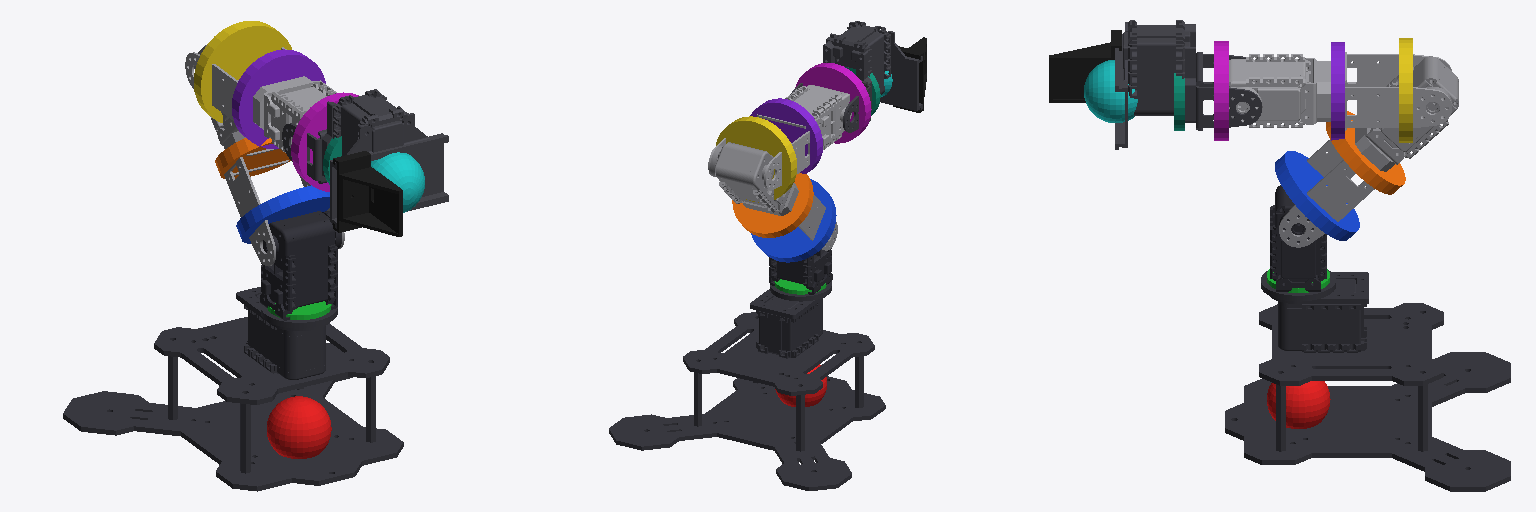
URDF robot description (phantomx_pincher_cad):
<?xml version="1.0" ?>
<!-- 由 scripts/build_cad_urdf.py 从 PhantomX Pincher Mark II STEP/GLB 生成。
     运动学来自 CAD 装配：link frame = 零件局部坐标系，joint origin = 父→子相对变换。
     base_link 包含底座；base_footprint 把 CAD 的 Y-up 转成 Z-up。
-->
<robot name="phantomx_pincher_cad">
  <link name="base_footprint"/>
  <joint name="arm_base_joint" type="fixed">
    <origin xyz="0 0 0" rpy="0 -0 -1.57079633"/>
    <parent link="base_footprint"/>
    <child link="base_link"/>
  </joint>

  <link name="base_link">
    <inertial>
      <mass value="0.3"/>
      <origin xyz="0 0 0"/>
      <inertia ixx="0.0001" ixy="0" ixz="0" iyy="0.0001" iyz="0" izz="0.0001"/>
    </inertial>
    <visual>
      <origin xyz="0 0 0" rpy="0 0 0"/>
      <geometry><mesh filename="parts/PincherBase.stl" scale="1.0 1.0 1.0"/></geometry>
      <material name="grey"><color rgba="0.25 0.25 0.28 1"/></material>
    </visual>
    <collision>
      <origin xyz="0 0 0" rpy="0 0 0"/>
      <geometry><mesh filename="parts/PincherBase.stl" scale="1.0 1.0 1.0"/></geometry>
    </collision>
    <visual>
      <origin xyz="0 0 0" rpy="0 0 0"/>
      <geometry><mesh filename="parts/PincherBase_1.stl" scale="1.0 1.0 1.0"/></geometry>
      <material name="grey"><color rgba="0.25 0.25 0.28 1"/></material>
    </visual>
    <collision>
      <origin xyz="0 0 0" rpy="0 0 0"/>
      <geometry><mesh filename="parts/PincherBase_1.stl" scale="1.0 1.0 1.0"/></geometry>
    </collision>
  </link>

  <joint name="arm_shoulder_pan_joint" type="revolute">
    <origin xyz="0.00007574 0.00007574 0.09437501" rpy="0 0 0"/>
    <axis xyz="0 0 1"/>
    <limit effort="6" lower="-1.74" upper="1.74" velocity="1.571"/>
    <dynamics friction="0.13"/>
    <parent link="base_link"/>
    <child link="arm_shoulder_pan_link"/>
  </joint>
  <link name="arm_shoulder_pan_link">
    <inertial>
      <mass value="0.08"/>
      <origin xyz="0 0 0"/>
      <inertia ixx="0.0001" ixy="0" ixz="0" iyy="0.0001" iyz="0" izz="0.0001"/>
    </inertial>
    <visual>
      <origin xyz="0 0 0" rpy="0 0 0"/>
      <geometry><mesh filename="parts/Component1.stl" scale="1.0 1.0 1.0"/></geometry>
      <material name="grey"><color rgba="0.22 0.22 0.25 1"/></material>
    </visual>
    <collision>
      <origin xyz="0 0 0" rpy="0 0 0"/>
      <geometry><mesh filename="parts/Component1.stl" scale="1.0 1.0 1.0"/></geometry>
    </collision>
  </link>

  <joint name="arm_bicep_joint" type="revolute">
    <origin xyz="-0.00000023 0 0.04149977" rpy="0 -0.78539816 0"/>
    <axis xyz="0 1 -0"/>
    <limit effort="6" lower="-1.98" upper="1.88" velocity="1.571"/>
    <dynamics friction="0.13"/>
    <parent link="arm_shoulder_pan_link"/>
    <child link="arm_bicep_link"/>
  </joint>
  <link name="arm_bicep_link">
    <inertial>
      <mass value="0.1"/>
      <origin xyz="0 0 0"/>
      <inertia ixx="0.0001" ixy="0" ixz="0" iyy="0.0001" iyz="0" izz="0.0001"/>
    </inertial>
    <visual>
      <origin xyz="0 0 0" rpy="0 0 0"/>
      <geometry><mesh filename="parts/LowerArm_v2.stl" scale="1.0 1.0 1.0"/></geometry>
      <material name="grey"><color rgba="0.6 0.6 0.62 1"/></material>
    </visual>
    <collision>
      <origin xyz="0 0 0" rpy="0 0 0"/>
      <geometry><mesh filename="parts/LowerArm_v2.stl" scale="1.0 1.0 1.0"/></geometry>
    </collision>
  </link>

  <joint name="arm_forearm_joint" type="revolute">
    <origin xyz="0.00000023 0 0.10700023" rpy="-3.14159265 0.78539816 -3.14159265"/>
    <axis xyz="-0 1 0"/>
    <limit effort="6" lower="-1.58" upper="0.59" velocity="1.571"/>
    <dynamics friction="0.13"/>
    <parent link="arm_bicep_link"/>
    <child link="arm_forearm_link"/>
  </joint>
  <link name="arm_forearm_link">
    <inertial>
      <mass value="0.08"/>
      <origin xyz="0 0 0"/>
      <inertia ixx="0.0001" ixy="0" ixz="0" iyy="0.0001" iyz="0" izz="0.0001"/>
    </inertial>
    <visual>
      <origin xyz="0 0 0" rpy="0 0 0"/>
      <geometry><mesh filename="parts/UpperArm_v2.stl" scale="1.0 1.0 1.0"/></geometry>
      <material name="grey"><color rgba="0.68 0.68 0.7 1"/></material>
    </visual>
    <collision>
      <origin xyz="0 0 0" rpy="0 0 0"/>
      <geometry><mesh filename="parts/UpperArm_v2.stl" scale="1.0 1.0 1.0"/></geometry>
    </collision>
  </link>

  <joint name="arm_wrist_flex_joint" type="revolute">
    <origin xyz="-0.00025427 -0 0.107" rpy="-0 0 0"/>
    <axis xyz="-0 1 0"/>
    <limit effort="6" lower="-1.79" upper="1.67" velocity="1.571"/>
    <dynamics friction="0.13"/>
    <parent link="arm_forearm_link"/>
    <child link="arm_wrist_flex_link"/>
  </joint>
  <link name="arm_wrist_flex_link">
    <inertial>
      <mass value="0.06"/>
      <origin xyz="0 0 0"/>
      <inertia ixx="0.0001" ixy="0" ixz="0" iyy="0.0001" iyz="0" izz="0.0001"/>
    </inertial>
    <visual>
      <origin xyz="0 0 0" rpy="0 0 0"/>
      <geometry><mesh filename="parts/GripperBody_v4.stl" scale="1.0 1.0 1.0"/></geometry>
      <material name="grey"><color rgba="0.3 0.3 0.33 1"/></material>
    </visual>
    <collision>
      <origin xyz="0 0 0" rpy="0 0 0"/>
      <geometry><mesh filename="parts/GripperBody_v4.stl" scale="1.0 1.0 1.0"/></geometry>
    </collision>
  </link>

  <joint name="gripper_joint" type="prismatic">
    <origin xyz="0.00036977 0.02834429 0.07158491" rpy="-0 0 3.14159265"/>
    <axis xyz="0 -1 -0"/>
    <limit effort="30" lower="0.002" upper="0.032" velocity="0.5"/>
    <parent link="arm_wrist_flex_link"/>
    <child link="gripper_active_link"/>
  </joint>
  <link name="gripper_active_link">
    <inertial>
      <mass value="0.01"/>
      <origin xyz="0 0 0"/>
      <inertia ixx="0.0001" ixy="0" ixz="0" iyy="0.0001" iyz="0" izz="0.0001"/>
    </inertial>
    <visual>
      <origin xyz="0 0 0" rpy="0 0 0"/>
      <geometry><mesh filename="parts/LeftFinger_v2.stl" scale="1.0 1.0 1.0"/></geometry>
      <material name="grey"><color rgba="0.15 0.15 0.15 1"/></material>
    </visual>
    <collision>
      <origin xyz="0 0 0" rpy="0 0 0"/>
      <geometry><mesh filename="parts/LeftFinger_v2.stl" scale="1.0 1.0 1.0"/></geometry>
    </collision>
  </link>

  <joint name="gripper2_joint" type="fixed">
    <origin xyz="0.00036977 -0.02849576 0.07158491" rpy="0 -0 0"/>
    <parent link="arm_wrist_flex_link"/>
    <child link="gripper_active2_link"/>
  </joint>
  <link name="gripper_active2_link">
    <inertial>
      <mass value="0.01"/>
      <origin xyz="0 0 0"/>
      <inertia ixx="0.0001" ixy="0" ixz="0" iyy="0.0001" iyz="0" izz="0.0001"/>
    </inertial>
    <visual>
      <origin xyz="0 0 0" rpy="0 0 0"/>
      <geometry><mesh filename="parts/LeftFinger_v2_1.stl" scale="1.0 1.0 1.0"/></geometry>
      <material name="grey"><color rgba="0.15 0.15 0.15 1"/></material>
    </visual>
    <collision>
      <origin xyz="0 0 0" rpy="0 0 0"/>
      <geometry><mesh filename="parts/LeftFinger_v2_1.stl" scale="1.0 1.0 1.0"/></geometry>
    </collision>
  </link>

  <link name="kp_base">
    <visual>
      <origin xyz="0 0 0" rpy="0 0 0"/>
      <geometry><sphere radius="0.018"/></geometry>
      <material name="kp_base_mat"><color rgba="0.90 0.15 0.15 1.0"/></material>
    </visual>
  </link>
  <joint name="kp_base_joint" type="fixed">
    <origin xyz="0 0 0.02" rpy="0 0 0"/>
    <parent link="base_link"/>
    <child link="kp_base"/>
  </joint>

  <link name="kp_shoulder_pan">
    <visual>
      <origin xyz="0 0 0" rpy="0 0 0"/>
      <geometry><cylinder radius="0.018" length="0.006"/></geometry>
      <material name="kp_shoulder_pan_mat"><color rgba="0.15 0.75 0.25 1.0"/></material>
    </visual>
  </link>
  <joint name="kp_shoulder_pan_joint" type="fixed">
    <origin xyz="0 0 0" rpy="0 0 0"/>
    <parent link="arm_shoulder_pan_link"/>
    <child link="kp_shoulder_pan"/>
  </joint>

  <link name="kp_shoulder_lift">
    <visual>
      <origin xyz="0 0 0" rpy="0 0 0"/>
      <geometry><cylinder radius="0.03" length="0.008"/></geometry>
      <material name="kp_shoulder_lift_mat"><color rgba="0.15 0.35 0.90 1.0"/></material>
    </visual>
  </link>
  <joint name="kp_shoulder_lift_joint" type="fixed">
    <origin xyz="0 0 0.015" rpy="0 0 0"/>
    <parent link="arm_bicep_link"/>
    <child link="kp_shoulder_lift"/>
  </joint>

  <link name="kp_upper_mid">
    <visual>
      <origin xyz="0 0 0" rpy="0 0 0"/>
      <geometry><cylinder radius="0.028" length="0.008"/></geometry>
      <material name="kp_upper_mid_mat"><color rgba="1.00 0.50 0.10 1.0"/></material>
    </visual>
  </link>
  <joint name="kp_upper_mid_joint" type="fixed">
    <origin xyz="0 0 0.0535" rpy="0 0 0"/>
    <parent link="arm_bicep_link"/>
    <child link="kp_upper_mid"/>
  </joint>

  <link name="kp_elbow">
    <visual>
      <origin xyz="0 0 0" rpy="0 0 0"/>
      <geometry><cylinder radius="0.03" length="0.008"/></geometry>
      <material name="kp_elbow_mat"><color rgba="0.90 0.80 0.15 1.0"/></material>
    </visual>
  </link>
  <joint name="kp_elbow_joint" type="fixed">
    <origin xyz="0 0 0.015" rpy="0 0 0"/>
    <parent link="arm_forearm_link"/>
    <child link="kp_elbow"/>
  </joint>

  <link name="kp_forearm_mid">
    <visual>
      <origin xyz="0 0 0" rpy="0 0 0"/>
      <geometry><cylinder radius="0.028" length="0.008"/></geometry>
      <material name="kp_forearm_mid_mat"><color rgba="0.55 0.20 0.85 1.0"/></material>
    </visual>
  </link>
  <joint name="kp_forearm_mid_joint" type="fixed">
    <origin xyz="0 0 0.0535" rpy="0 0 0"/>
    <parent link="arm_forearm_link"/>
    <child link="kp_forearm_mid"/>
  </joint>

  <link name="kp_wrist">
    <visual>
      <origin xyz="0 0 0" rpy="0 0 0"/>
      <geometry><cylinder radius="0.028" length="0.008"/></geometry>
      <material name="kp_wrist_mat"><color rgba="0.80 0.15 0.80 1.0"/></material>
    </visual>
  </link>
  <joint name="kp_wrist_joint" type="fixed">
    <origin xyz="0 0 0.012" rpy="0 0 0"/>
    <parent link="arm_wrist_flex_link"/>
    <child link="kp_wrist"/>
  </joint>

  <link name="kp_wrist_mid">
    <visual>
      <origin xyz="0 0 0" rpy="0 0 0"/>
      <geometry><cylinder radius="0.022" length="0.006"/></geometry>
      <material name="kp_wrist_mid_mat"><color rgba="0.10 0.60 0.50 1.0"/></material>
    </visual>
  </link>
  <joint name="kp_wrist_mid_joint" type="fixed">
    <origin xyz="0.00036977 0 0.0358" rpy="0 0 0"/>
    <parent link="arm_wrist_flex_link"/>
    <child link="kp_wrist_mid"/>
  </joint>

  <link name="kp_gripper_base">
    <visual>
      <origin xyz="0 0 0" rpy="0 0 0"/>
      <geometry><sphere radius="0.018"/></geometry>
      <material name="kp_gripper_base_mat"><color rgba="0.15 0.80 0.80 1.0"/></material>
    </visual>
  </link>
  <joint name="kp_gripper_base_joint" type="fixed">
    <origin xyz="0.00036977 0 0.07158491" rpy="0 0 0"/>
    <parent link="arm_wrist_flex_link"/>
    <child link="kp_gripper_base"/>
  </joint>

</robot>

--- Facts derived from the render (not from the file) ---
The picture shows the robot from 3 angles, left to right: view 1: azimuth 30°, elevation 25°; view 2: azimuth 150°, elevation 25°; view 3: azimuth 270°, elevation 25°; orthographic projection.
Robot: phantomx_pincher_cad — 17 links, 16 joints (4 revolute, 1 prismatic, 11 fixed); root link base_footprint; default pose: joints at zero except 1 at the middle of their limits (gripper_joint = 0.017).
Visible links, largest first — view 1: base_link, arm_wrist_flex_link, arm_shoulder_pan_link, gripper_active2_link, arm_forearm_link, kp_elbow, kp_forearm_mid, kp_base, arm_bicep_link, kp_shoulder_lift, kp_wrist, kp_gripper_base (+2 smaller); view 2: base_link, arm_wrist_flex_link, arm_bicep_link, arm_forearm_link, kp_elbow, kp_shoulder_lift, kp_upper_mid, kp_wrist, kp_forearm_mid, arm_shoulder_pan_link, gripper_active2_link; view 3: base_link, arm_forearm_link, arm_wrist_flex_link, arm_bicep_link, arm_shoulder_pan_link, kp_shoulder_lift, gripper_active2_link, kp_base, kp_gripper_base, kp_upper_mid, kp_wrist, kp_elbow (+2 smaller).
Boxes of the visible links, <box> form: base_link: <box>63,287,403,491</box>; arm_wrist_flex_link: <box>282,89,448,228</box>; arm_shoulder_pan_link: <box>260,211,341,320</box>; gripper_active2_link: <box>333,151,402,236</box>; arm_forearm_link: <box>185,47,336,152</box>; kp_elbow: <box>194,21,291,122</box>; kp_forearm_mid: <box>232,49,325,148</box>; kp_base: <box>267,396,331,458</box>; arm_bicep_link: <box>194,45,344,265</box>; kp_shoulder_lift: <box>236,185,329,243</box>; kp_wrist: <box>291,92,358,191</box>; kp_gripper_base: <box>371,152,424,212</box>; base_link: <box>609,281,885,490</box>; arm_wrist_flex_link: <box>790,21,922,132</box>; arm_bicep_link: <box>710,142,837,250</box>; arm_forearm_link: <box>708,85,851,190</box>; kp_elbow: <box>716,116,796,202</box>; kp_shoulder_lift: <box>751,179,836,262</box>; kp_upper_mid: <box>732,173,813,237</box>; kp_wrist: <box>795,63,871,143</box>; kp_forearm_mid: <box>750,98,822,173</box>; arm_shoulder_pan_link: <box>769,248,832,294</box>; gripper_active2_link: <box>893,37,926,112</box>; base_link: <box>1225,270,1510,491</box>; arm_forearm_link: <box>1229,52,1451,130</box>; arm_wrist_flex_link: <box>1115,20,1261,149</box>; arm_bicep_link: <box>1279,56,1458,247</box>; arm_shoulder_pan_link: <box>1270,185,1326,291</box>; kp_shoulder_lift: <box>1275,151,1359,240</box>; gripper_active2_link: <box>1049,30,1121,102</box>; kp_base: <box>1267,381,1330,428</box>; kp_gripper_base: <box>1084,60,1137,122</box>; kp_upper_mid: <box>1326,111,1405,194</box>; kp_wrist: <box>1214,41,1228,140</box>; kp_elbow: <box>1399,38,1412,142</box>.
Size in the robot's own frame: 0.1792 by 0.26 by 0.2503 metres.
7 mesh visuals loaded from 8 distinct referenced files (7 binary STL); not drawn: 1 (reference not matched to a file when rendering).
